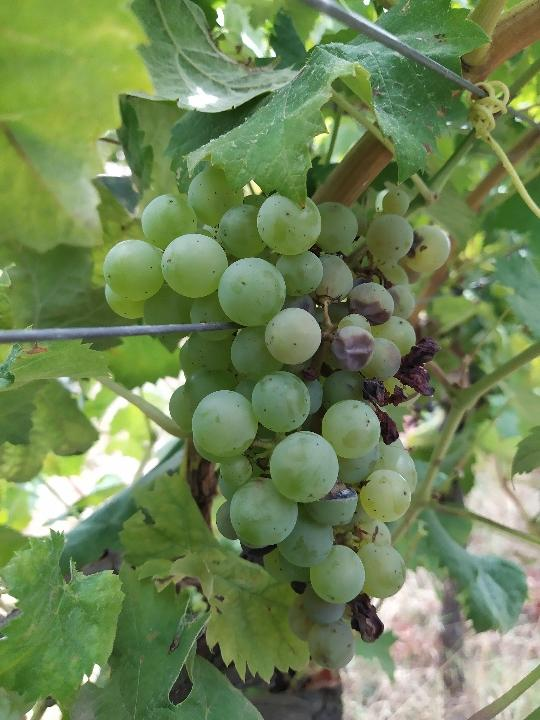grape: (100, 162, 453, 672)
